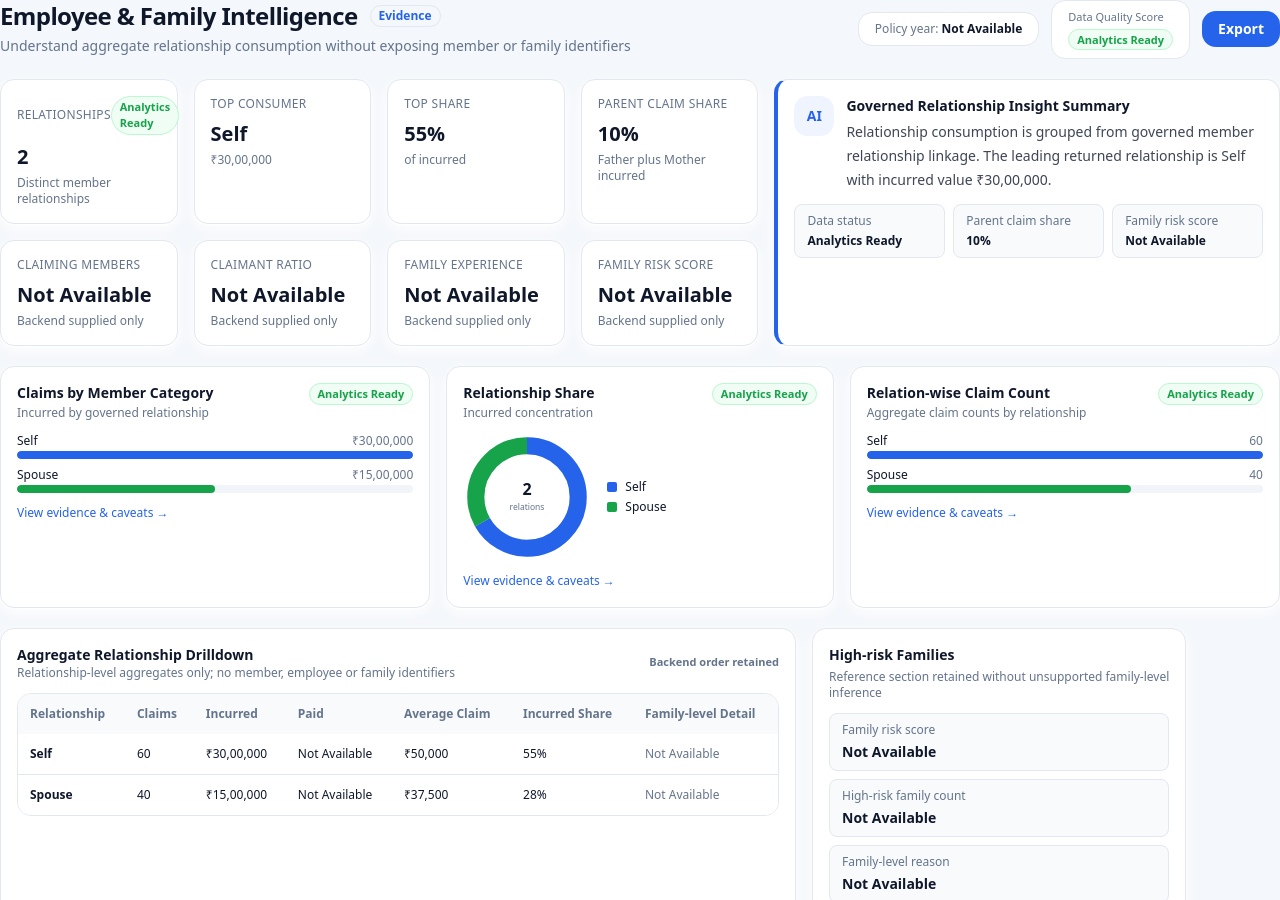
Test: Employee & Family dashboard (governed /metrics/relation) › opens the evidence drawer
This screenshot has width=1280, height=900.
Expected: the element with test id "ef-bars" is shown, [17,382,413,522]
Click the button "View evidence & caveats →" below "Incurred by governed relationship".
click(93, 512)  # box [17,504,168,520]
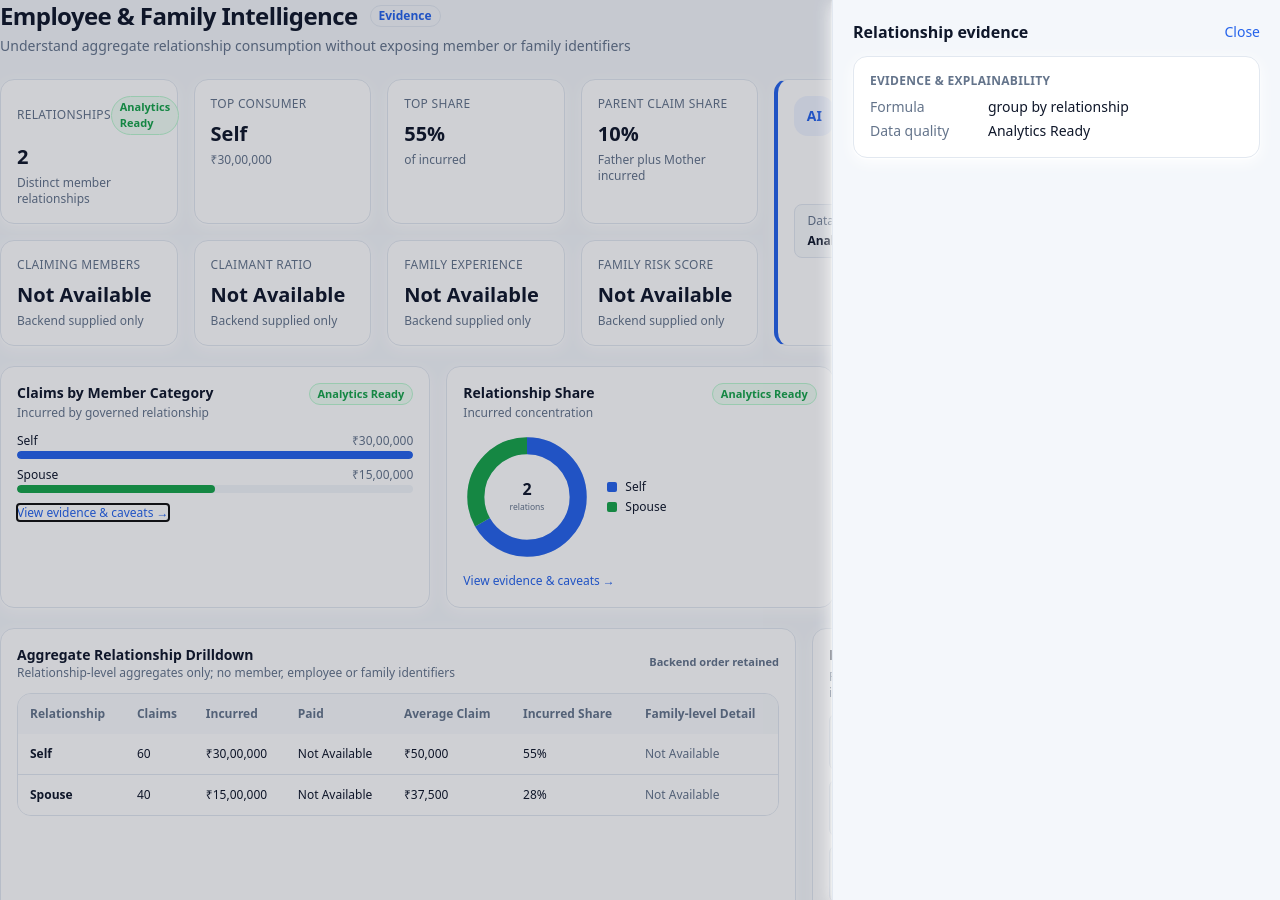
Now the element with test id "evidence-drawer" is shown
